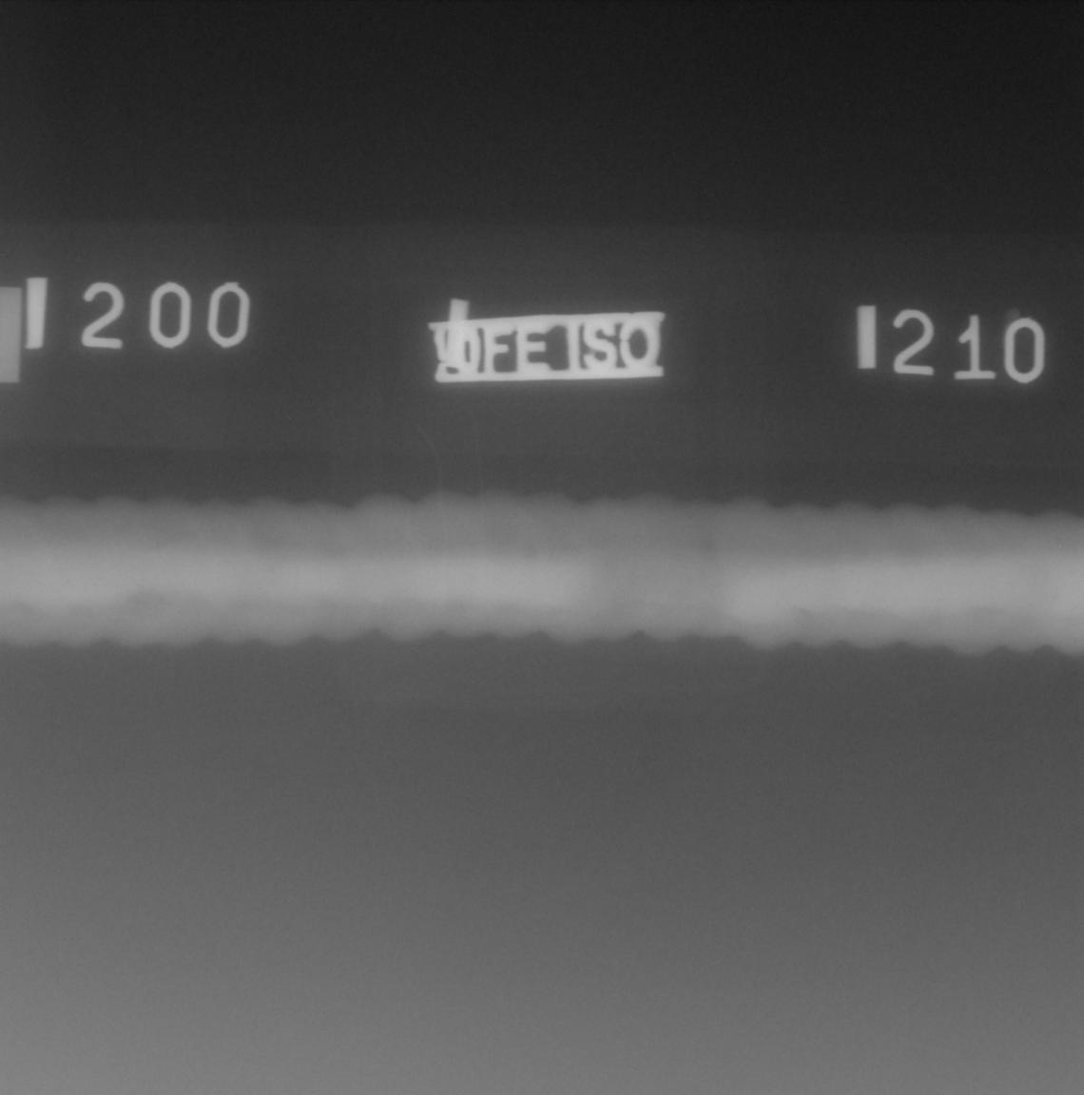Pore/Porosity: (268, 567, 276, 576)
